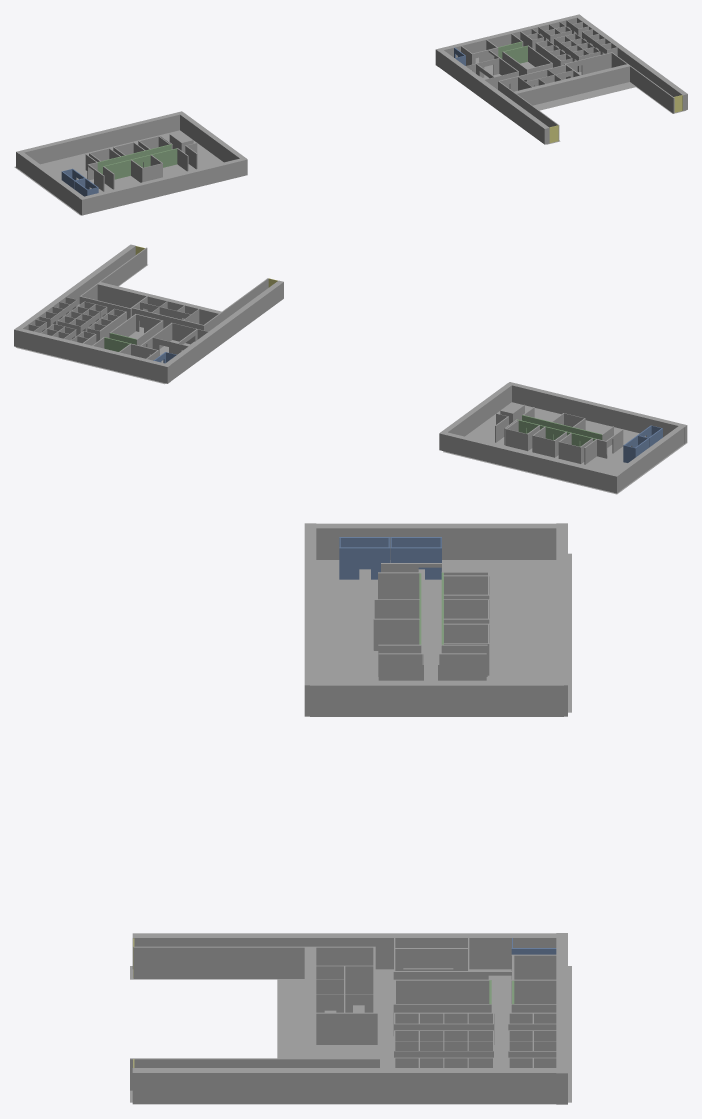
Rendered from facility map.fbx.
The picture shows the model from 3 angles, top to bottom: view 1: azimuth 30°, elevation 25°; view 2: azimuth 150°, elevation 25°; view 3: azimuth 270°, elevation 25°; orthographic projection. The views are drawn at different scales.
Parts seen in each view (by area): view 1: group5; view 2: group5; view 3: group5.
Part boxes in pixels (left/top/right/bottom): group5: left=14, top=14, right=687, bottom=215; group5: left=14, top=244, right=687, bottom=494; group5: left=130, top=523, right=571, bottom=1104.
Size of the model in its own units: 113 by 3 by 38.28.
